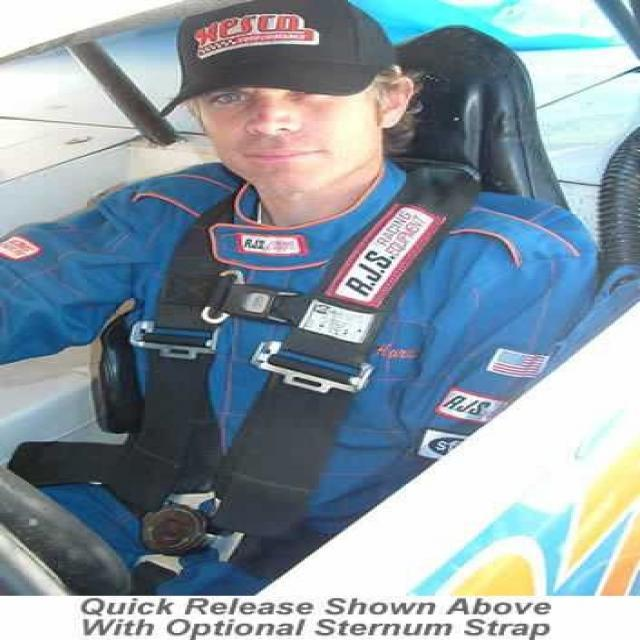seatbelt: (230, 207, 486, 520), (140, 206, 232, 497)
